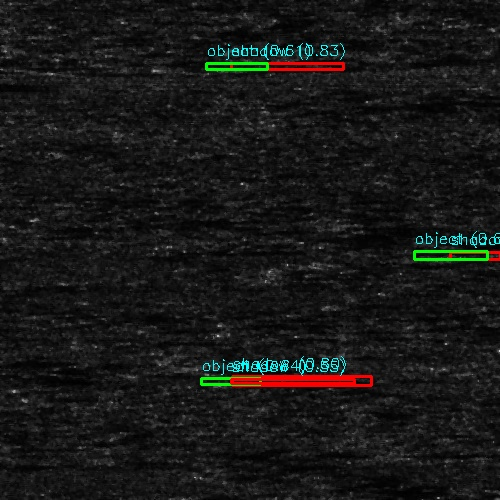rock: (405, 251, 500, 262), (231, 493, 304, 500), (204, 377, 267, 384)
shadow: (268, 493, 500, 500), (236, 377, 369, 384), (458, 251, 500, 262)
